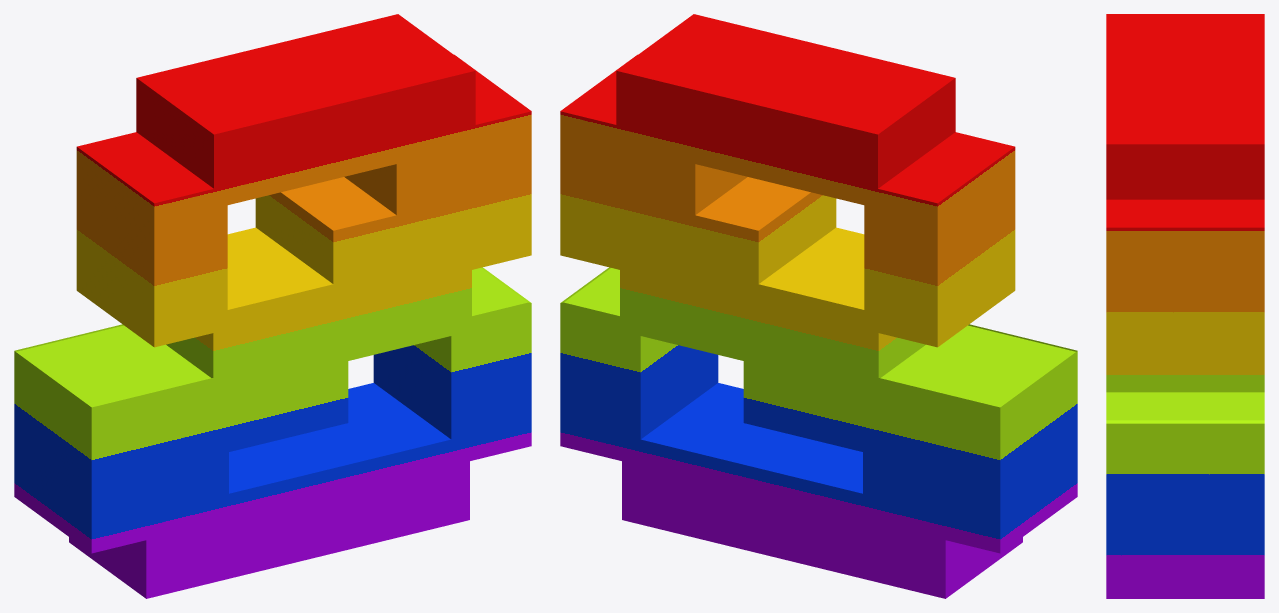
File: Number_08.fbx
The picture shows the model from 3 angles, left to right: view 1: azimuth 30°, elevation 25°; view 2: azimuth 150°, elevation 25°; view 3: azimuth 270°, elevation 25°; orthographic projection. The views are drawn at different scales.
Parts seen in each view (by area): view 1: Number_08; view 2: Number_08; view 3: Number_08.
Part boxes in pixels (box(x1,y1,x2,y2)): Number_08: box(14, 14, 531, 598); Number_08: box(560, 14, 1077, 598); Number_08: box(1106, 14, 1264, 598).
Size of the model in its own units: 79.65 by 77.46 by 24.3.
